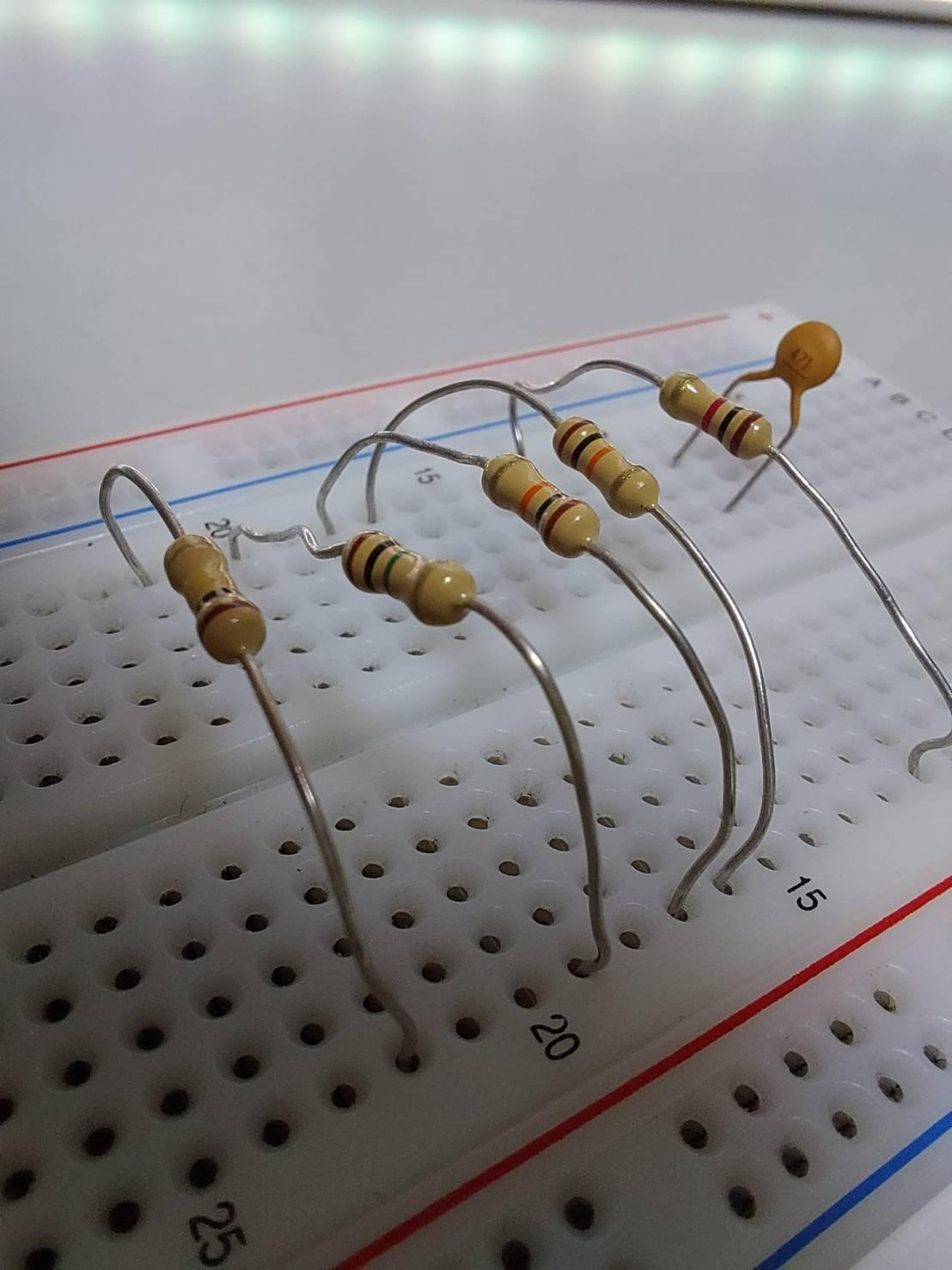resistor: (170, 533, 268, 664), (483, 451, 598, 557), (349, 538, 479, 621), (550, 416, 658, 512), (656, 371, 768, 456)
